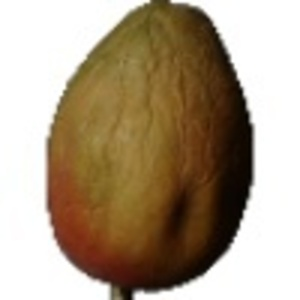mamão: (27, 1, 272, 290)
